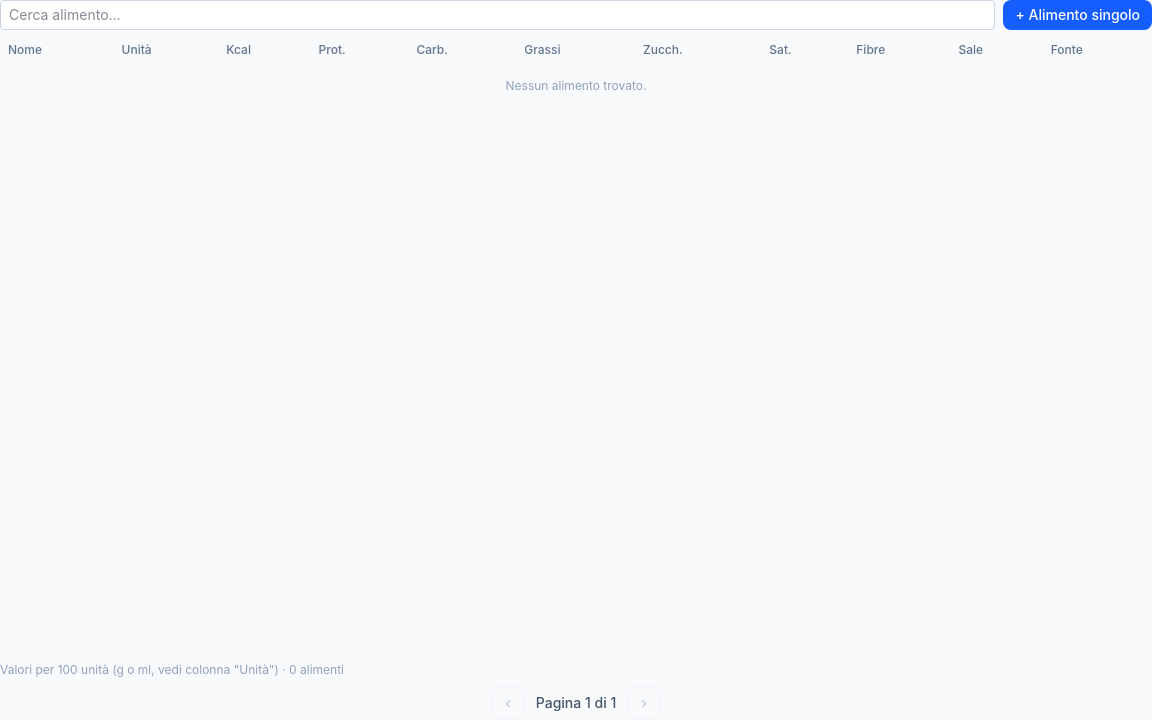
Test: LibroAlimentiPanel › LibroAlimentiPanel_clicSuAlimentoSingolo_apreIlFormPerUnNuovoAlimento
Click the button "+ Alimento singolo". click: (1078, 15)
box: [1003, 0, 1151, 30]
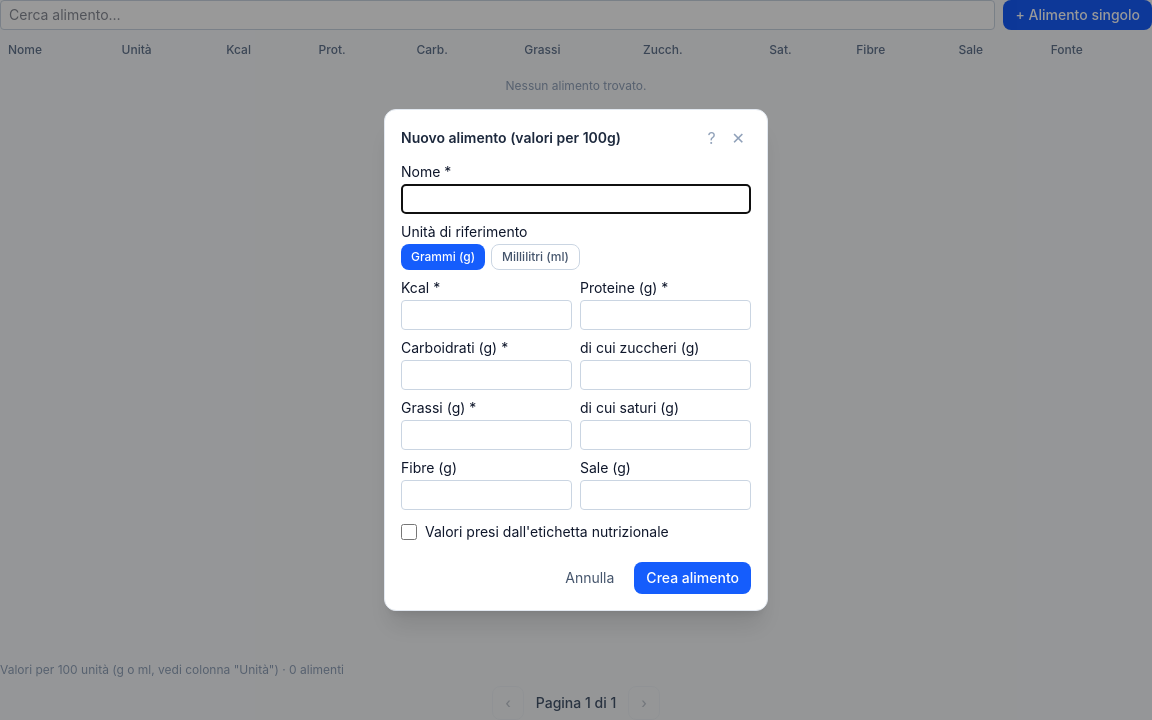
Check: the heading "Nuovo alimento (valori per 100g)" is shown, box [401, 128, 621, 148]
